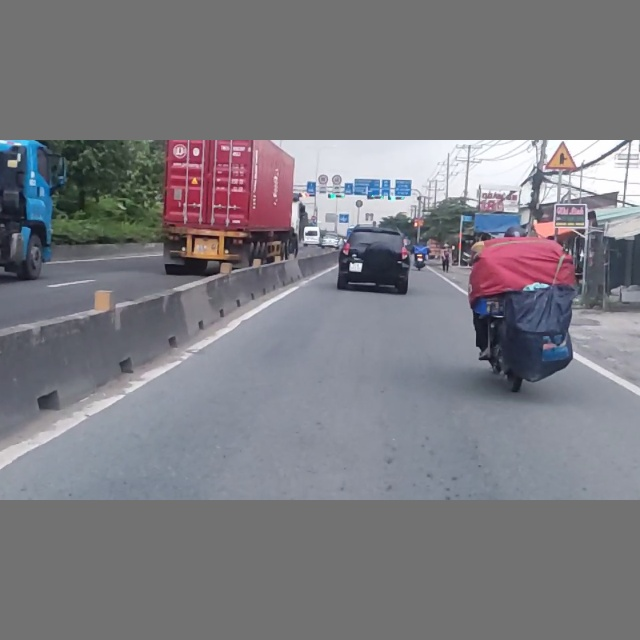P.127*60: (332, 175, 342, 185)
P.127*80: (319, 175, 329, 185)
W.207: (545, 141, 579, 171)
